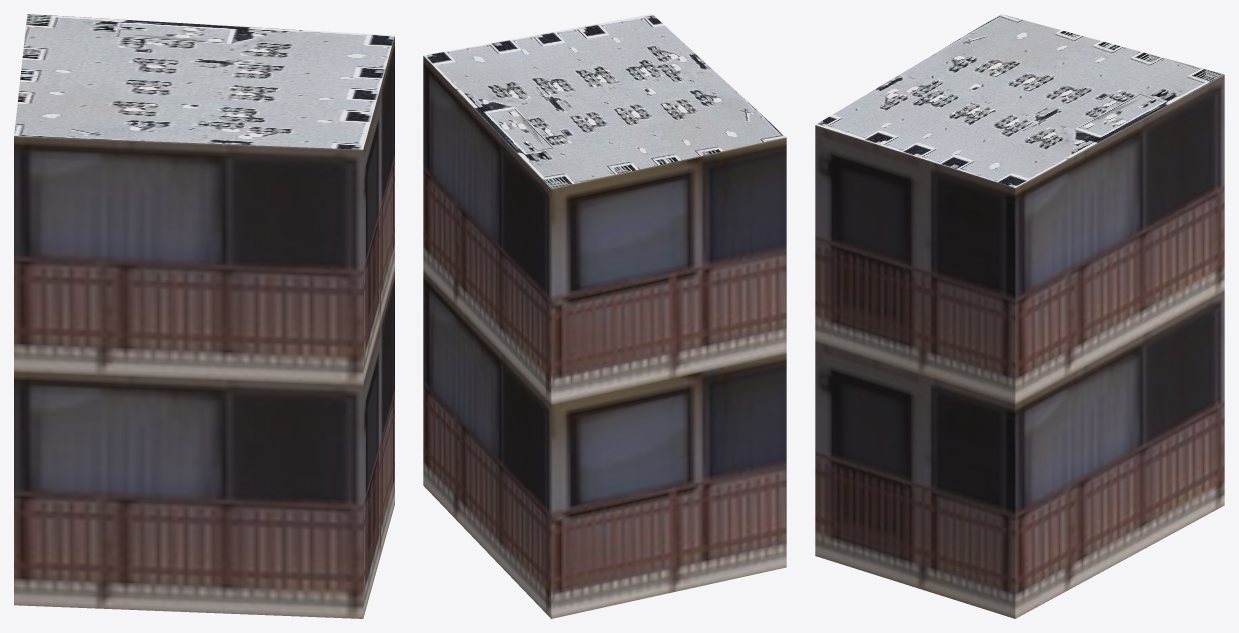
The model's file is ResTex__3694.fbx.
The picture shows the model from 3 angles, left to right: view 1: azimuth 30°, elevation 25°; view 2: azimuth 150°, elevation 25°; view 3: azimuth 270°, elevation 25°; orthographic projection. The views are drawn at different scales.
Visible parts, largest first — view 1: CityEngineMaterial_6_m, CityEngineMaterial_8_m; view 2: CityEngineMaterial_6_m, CityEngineMaterial_8_m; view 3: CityEngineMaterial_6_m, CityEngineMaterial_8_m.
Part boxes in pixels (<box>): CityEngineMaterial_6_m: <box>14,36,394,618</box>; CityEngineMaterial_8_m: <box>14,14,394,149</box>; CityEngineMaterial_6_m: <box>423,56,786,618</box>; CityEngineMaterial_8_m: <box>424,14,785,188</box>; CityEngineMaterial_6_m: <box>815,74,1224,618</box>; CityEngineMaterial_8_m: <box>816,14,1224,187</box>.
Size of the model in its own units: 5.2 by 6 by 5.17.
Materials: 2 (2 with a texture image).
